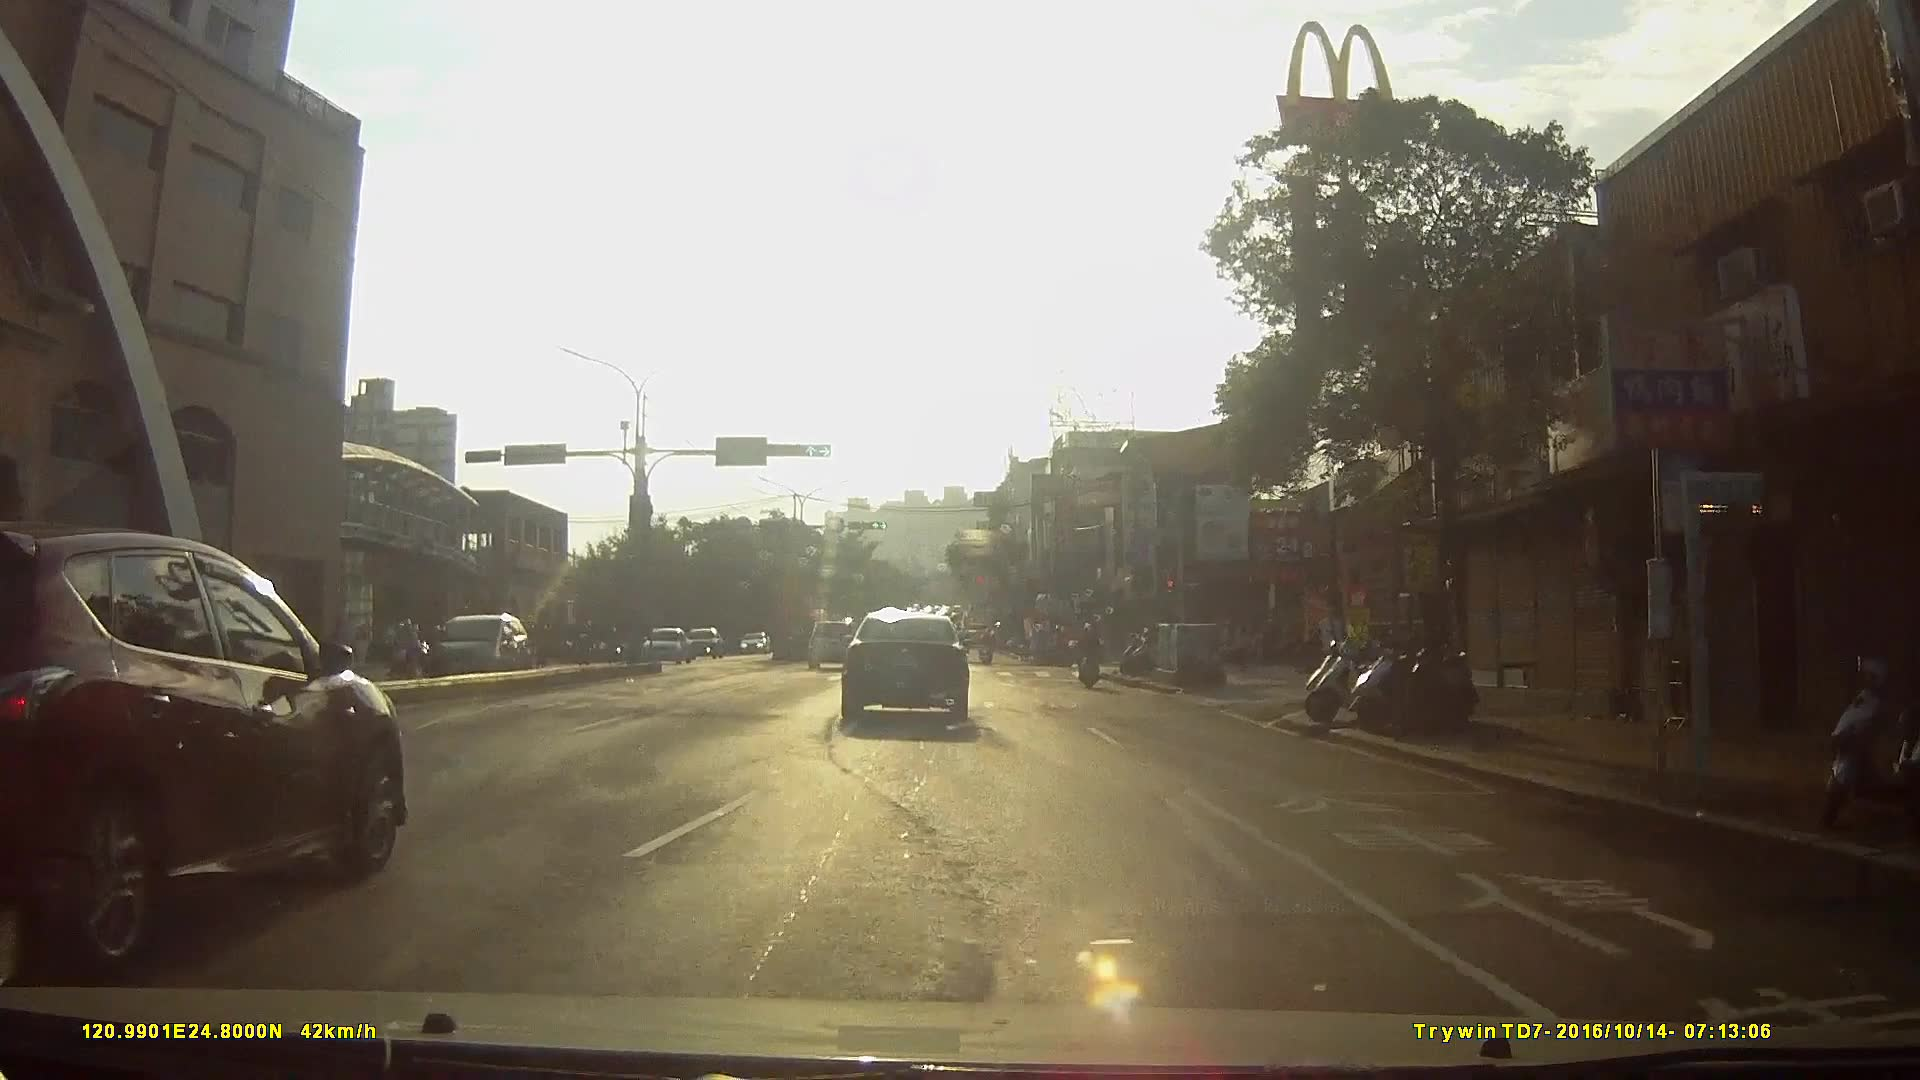rider: (1077, 622, 1103, 691), (1039, 626, 1075, 667), (977, 628, 997, 668)
vehicle: (1, 519, 417, 982), (838, 611, 982, 735), (421, 613, 539, 690), (804, 617, 863, 672), (637, 625, 693, 671), (684, 629, 726, 665), (737, 629, 773, 655)
